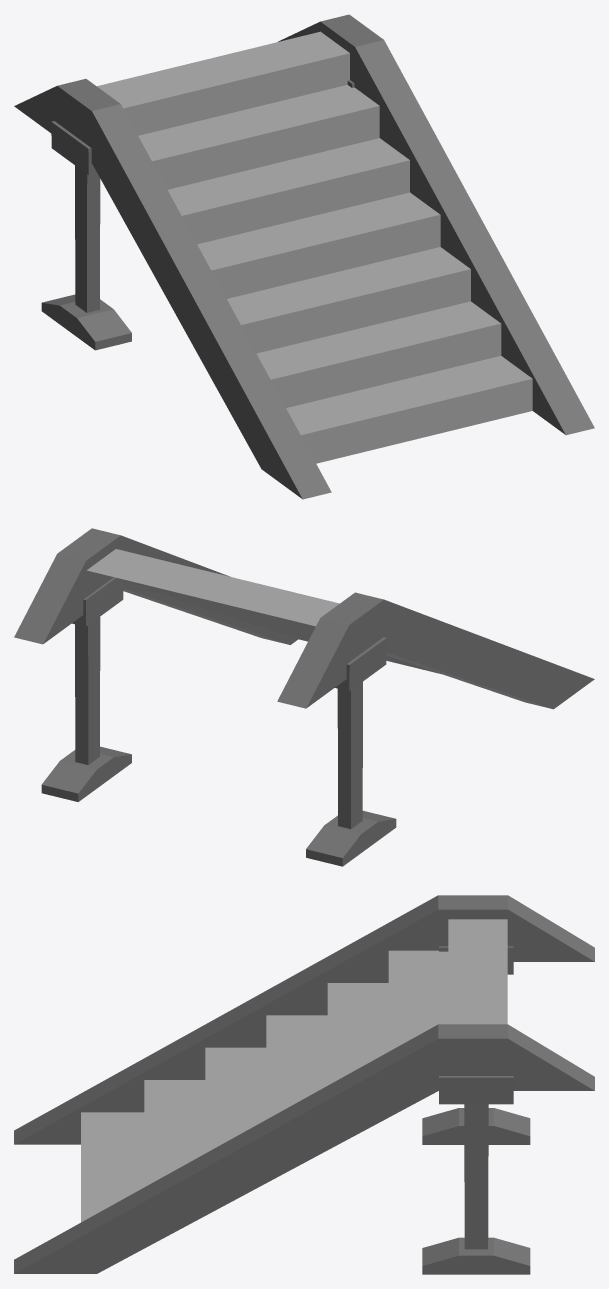
File: Stairs.gltf
3 views of the same model, one above another, from view 1: azimuth 30°, elevation 25°; view 2: azimuth 150°, elevation 25°; view 3: azimuth 270°, elevation 25° (orthographic).
Visible parts, largest first — view 1: Stairs; view 2: Stairs; view 3: Stairs.
Part boxes in pixels (x1=…): Stairs: x1=14, y1=14, x2=594, y2=499; Stairs: x1=14, y1=528, x2=594, y2=866; Stairs: x1=14, y1=895, x2=594, y2=1274.
Size of the model in its own units: 1.87 by 1.39 by 3.11.
Materials: 1 (1 with a texture image).
